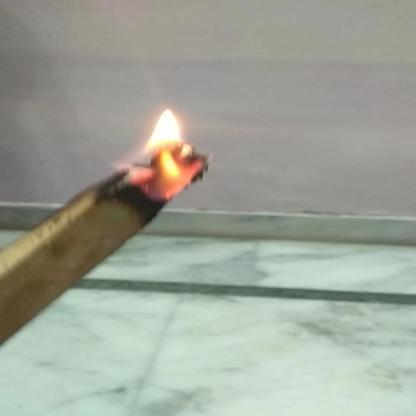fire: (120, 104, 214, 202)
